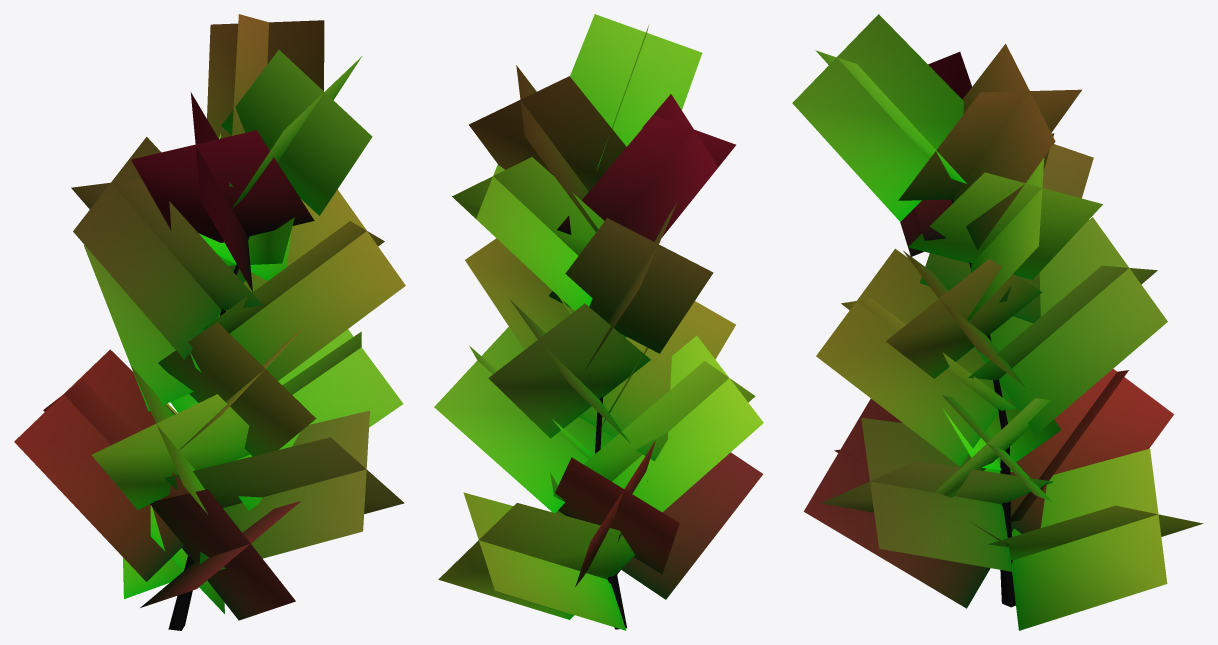
The model's file is SuperTree_5.fbx.
3 renders of one model, left to right at view 1: azimuth 30°, elevation 25°; view 2: azimuth 150°, elevation 25°; view 3: azimuth 270°, elevation 25°, orthographic. The views are drawn at different scales.
Parts seen in each view (by area): view 1: SuperTree_5; view 2: SuperTree_5; view 3: SuperTree_5.
Boxes of the visible parts, x1,y1,x2,y2 form: SuperTree_5: (14,14,405,630); SuperTree_5: (434,14,763,630); SuperTree_5: (792,14,1203,630).
Size of the model in its own units: 482 by 894 by 548.
